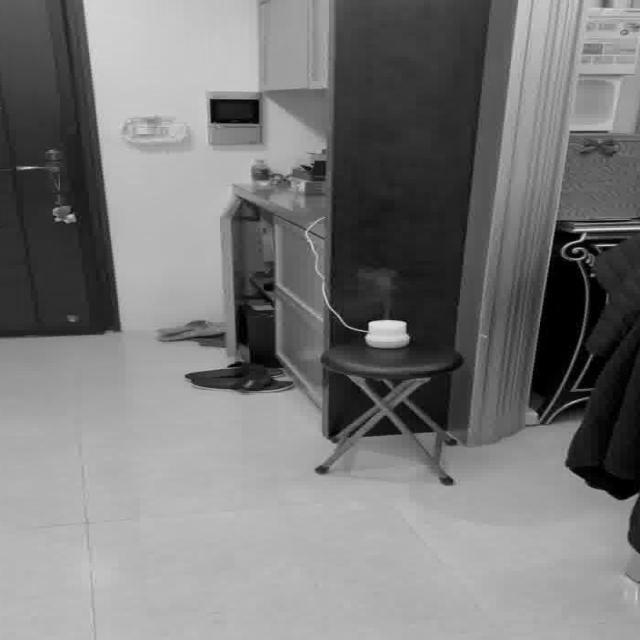fire: (344, 266, 402, 316)
